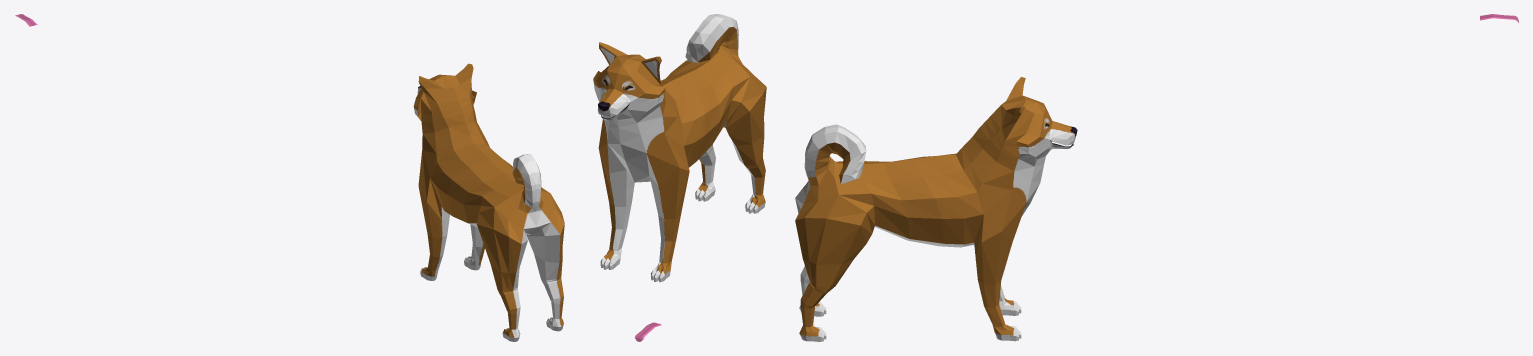
File: dog.gltf
3 views of the same model, side by side, from view 1: azimuth 30°, elevation 25°; view 2: azimuth 150°, elevation 25°; view 3: azimuth 270°, elevation 25° (orthographic). The views are drawn at different scales.
Visible parts, largest first — view 1: mesh_0; view 2: mesh_0, mesh_1; view 3: mesh_0.
Part boxes in pixels (x1,y1,x2,y2): mesh_0: (413,63,564,341); mesh_0: (593,14,766,282); mesh_1: (634,322,661,341); mesh_0: (795,77,1077,341).
Bounding box in the file's own units: 11.94 × 8.74 × 24.46.
Materials: 2 (2 with a texture image).
